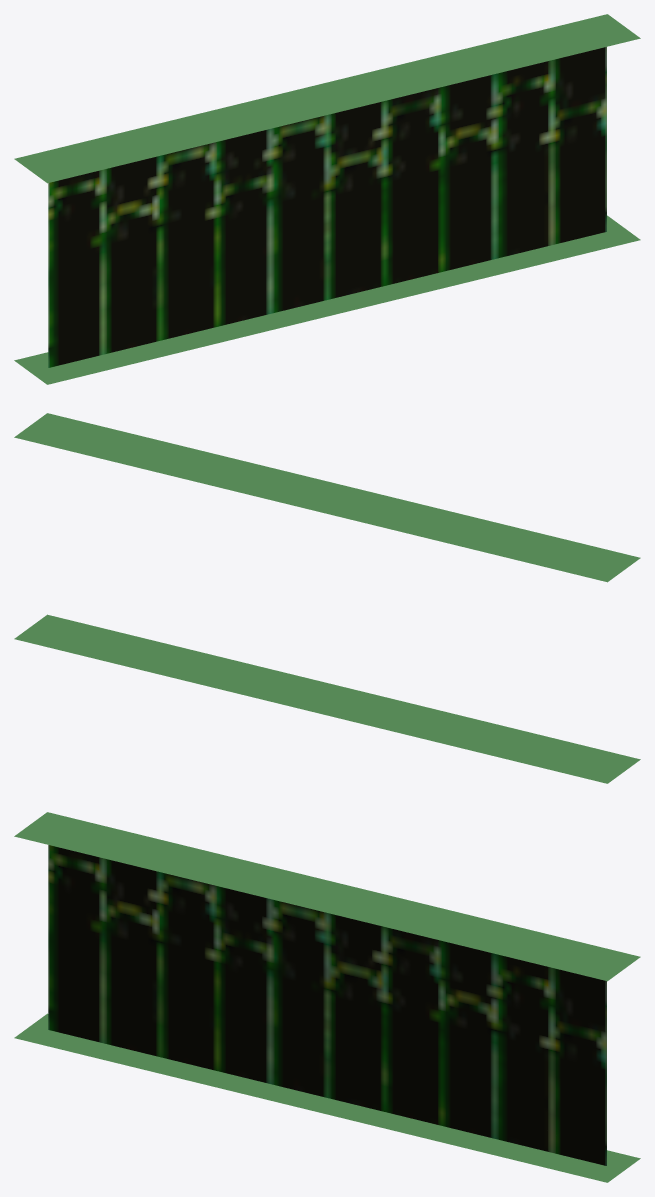
The model's file is Geländer1 [GrünesMetallGrün]_2363.glb.
3 views of the same model, one above another, from view 1: azimuth 30°, elevation 25°; view 2: azimuth 150°, elevation 25°; view 3: azimuth 330°, elevation 25° (orthographic).
Parts seen in each view (by area): view 1: pPlaneShape223, pPlaneShape224, pPlaneShape225; view 2: pPlaneShape224, pPlaneShape225; view 3: pPlaneShape223, pPlaneShape224, pPlaneShape225.
Part boxes in pixels (x1,y1,x2,y2): pPlaneShape223: (48,47,606,367); pPlaneShape224: (14,14,640,183); pPlaneShape225: (14,215,640,384); pPlaneShape224: (14,413,640,582); pPlaneShape225: (14,614,640,783); pPlaneShape223: (48,845,606,1165); pPlaneShape224: (14,812,640,981); pPlaneShape225: (14,1013,640,1182).
Bounding box in the file's own units: 0.25 × 0.0811 × 0.0243.
Materials: 3 (1 with a texture image).
